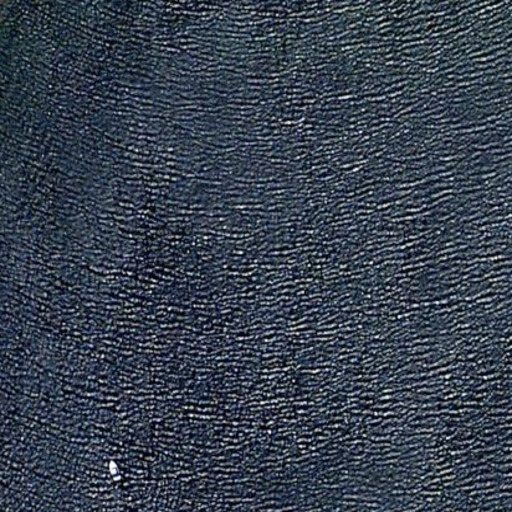ship: (106, 459, 124, 484)
